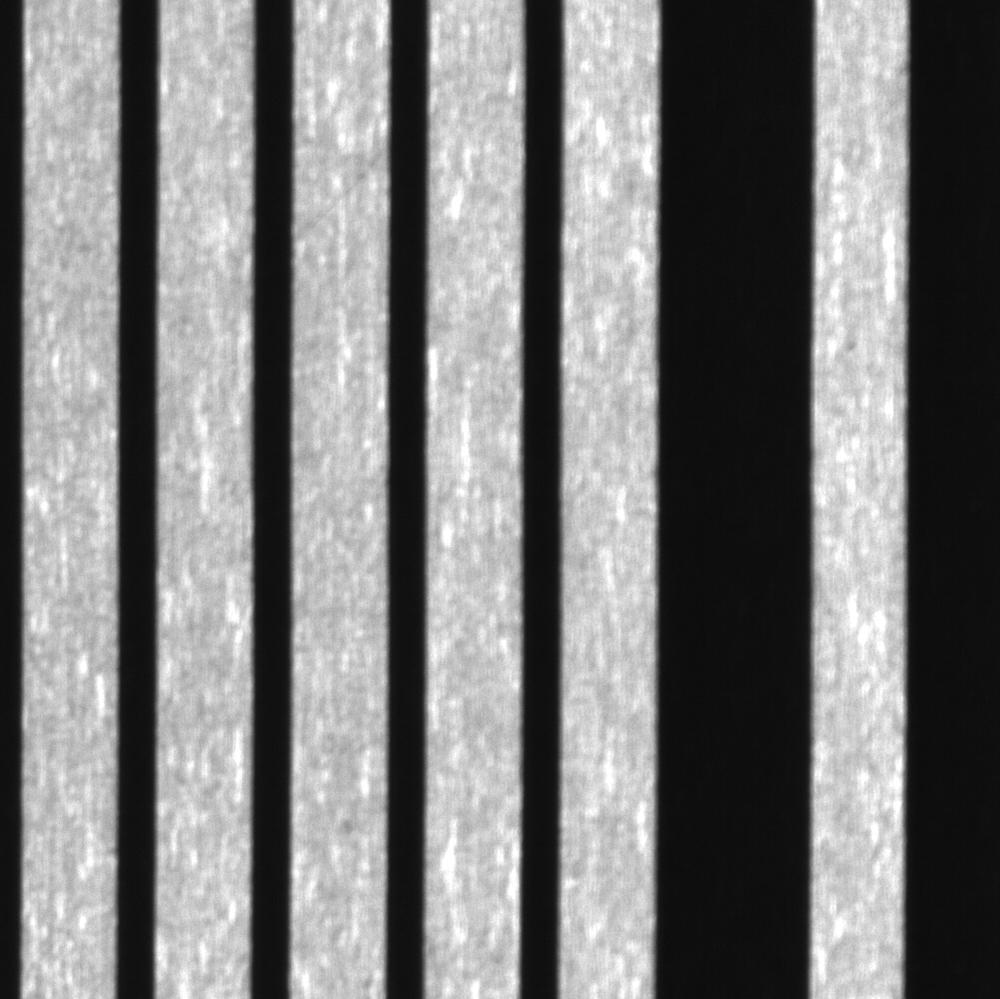Scar: (292, 135, 389, 249)
